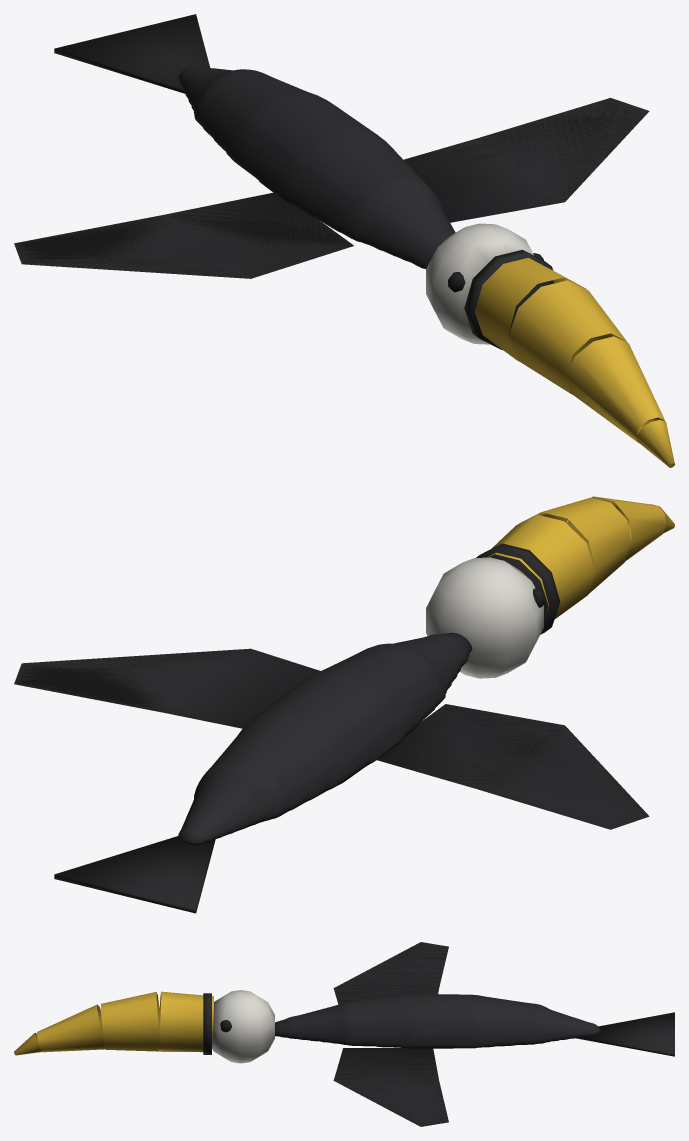
File: tukan.glb
3 views of the same model, one above another, from view 1: azimuth 30°, elevation 25°; view 2: azimuth 150°, elevation 25°; view 3: azimuth 270°, elevation 25° (orthographic). The views are drawn at different scales.
Parts seen in each view (by area): view 1: lack; view 2: lack; view 3: lack.
Boxes of the visible parts, left/top/right/bottom form: lack: left=14, top=14, right=674, bottom=467; lack: left=14, top=496, right=674, bottom=913; lack: left=14, top=942, right=674, bottom=1126.
Size of the model in its own units: 0.62 by 0.104 by 0.9363.
